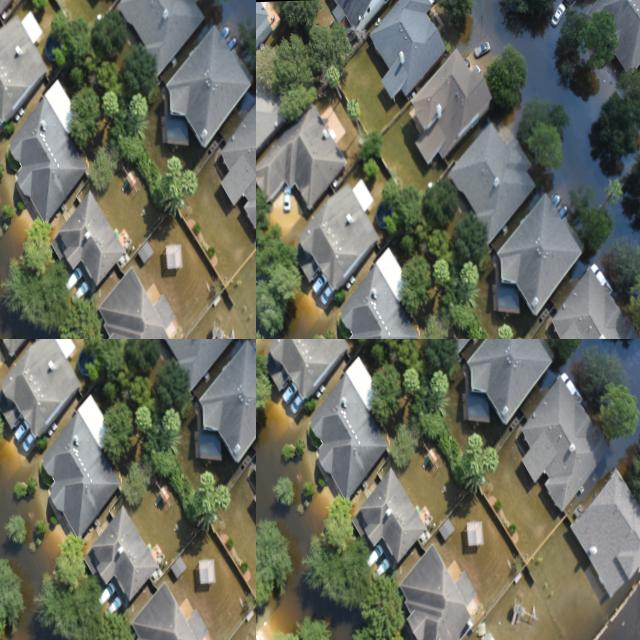fire: (0, 339, 103, 626), (256, 401, 332, 632), (199, 531, 256, 640)
